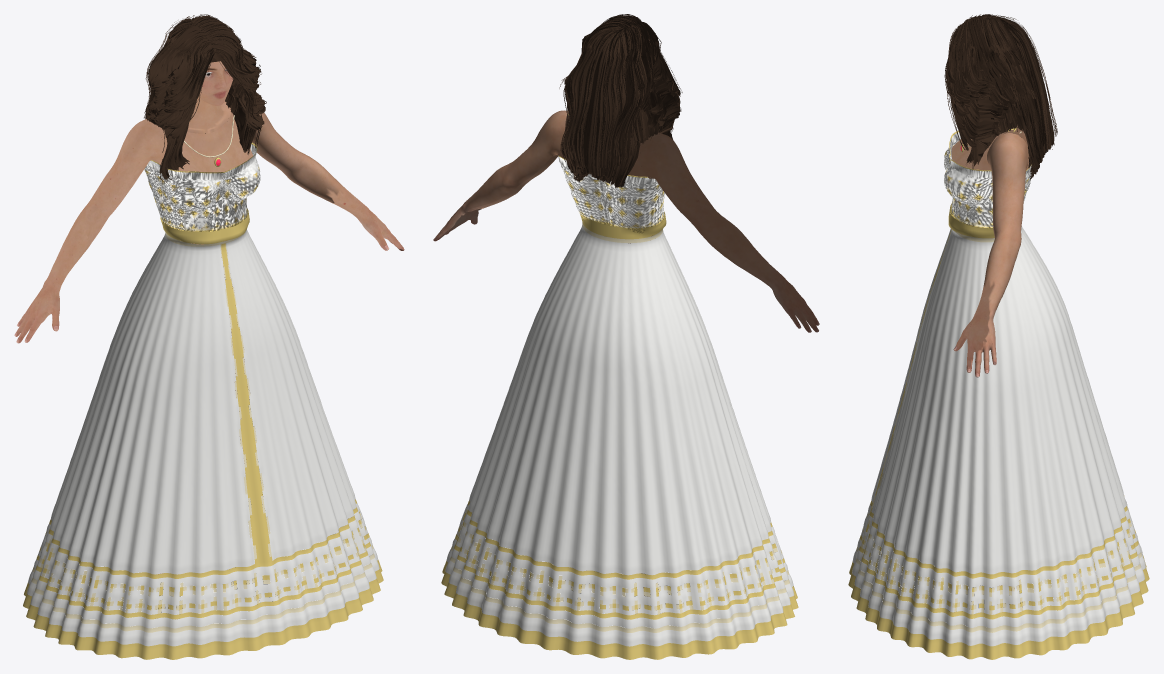
File: female-white-dress.glb
3 renders of one model, left to right at view 1: azimuth 30°, elevation 25°; view 2: azimuth 150°, elevation 25°; view 3: azimuth 270°, elevation 25°, orthographic.
Visible parts, largest first — view 1: Habesha_Kemis, Full_Body_Arms1_0, Hair_hair1_0, Full_Body_Body1_0, Full_Body_Mouth Cavity1_0; view 2: Habesha_Kemis, Hair_hair1_0, Full_Body_Arms1_0; view 3: Habesha_Kemis, Hair_hair1_0, Full_Body_Arms1_0, Full_Body_Body1_0.
Boxes of the visible parts, x1,y1,x2,y2 form: Habesha_Kemis: [23, 115, 383, 659]; Full_Body_Arms1_0: [15, 112, 403, 343]; Hair_hair1_0: [144, 14, 266, 183]; Full_Body_Body1_0: [153, 108, 257, 314]; Full_Body_Mouth Cavity1_0: [187, 61, 233, 133]; Habesha_Kemis: [441, 114, 798, 659]; Hair_hair1_0: [559, 14, 682, 187]; Full_Body_Arms1_0: [433, 110, 818, 332]; Habesha_Kemis: [848, 127, 1149, 659]; Hair_hair1_0: [944, 14, 1057, 179]; Full_Body_Arms1_0: [954, 133, 1028, 377]; Full_Body_Body1_0: [947, 126, 1029, 238].
Size of the model in its own units: 1.19 by 1.72 by 0.8158.
13 materials, 8 textured.
